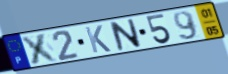2: (51, 29, 82, 62)
5: (144, 12, 172, 45)
9: (173, 9, 200, 40)
K: (83, 24, 113, 54)
N: (108, 18, 143, 52)
X: (19, 32, 61, 66)
